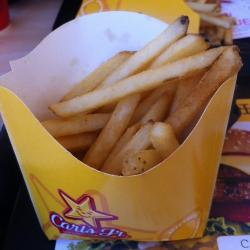fries: (47, 30, 202, 178)
